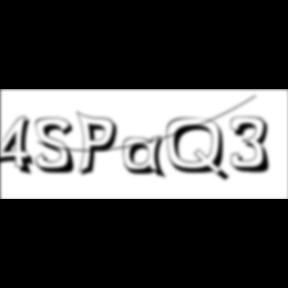3: (231, 116, 277, 176)
4: (0, 115, 40, 179)
P: (76, 110, 124, 180)
Q: (166, 117, 232, 184)
S: (35, 117, 81, 176)
a: (123, 135, 171, 182)
